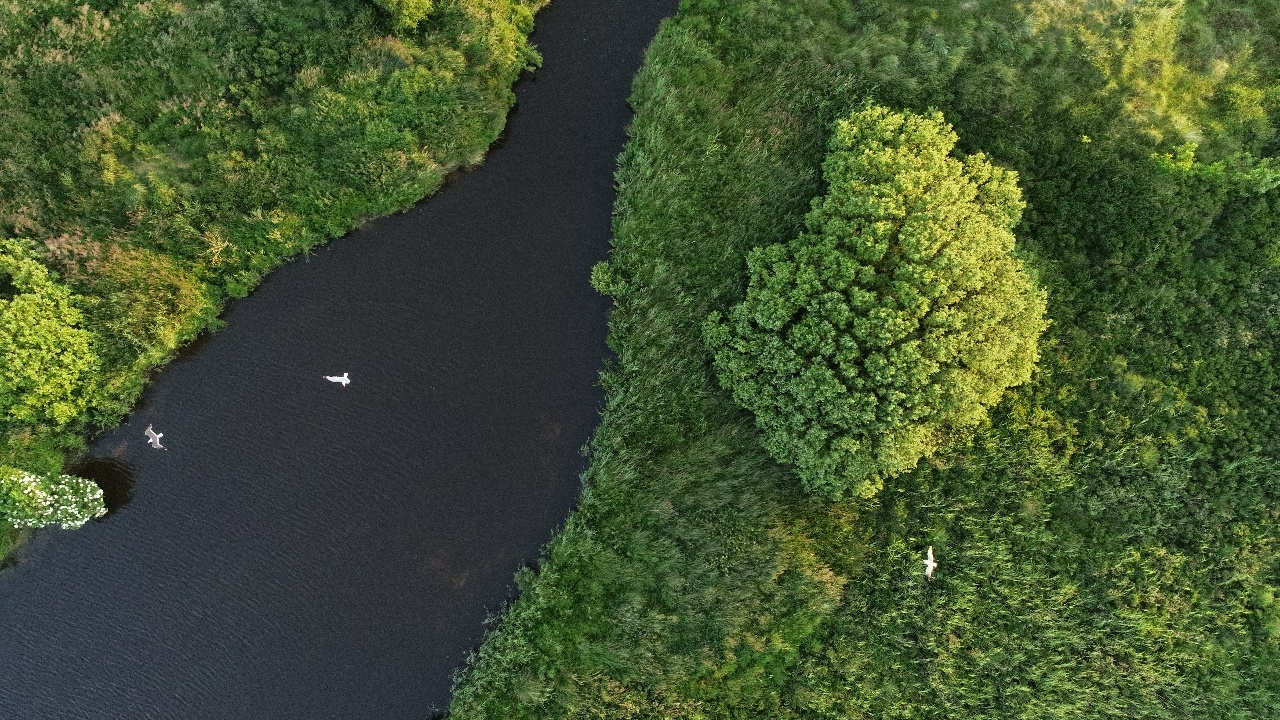Bird: (134, 416, 175, 457), (316, 356, 357, 397), (908, 537, 949, 578)
